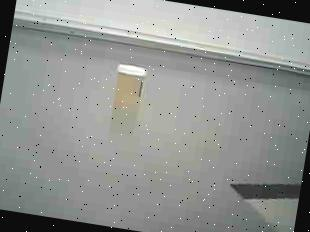Bottle B: (106, 56, 158, 122)
